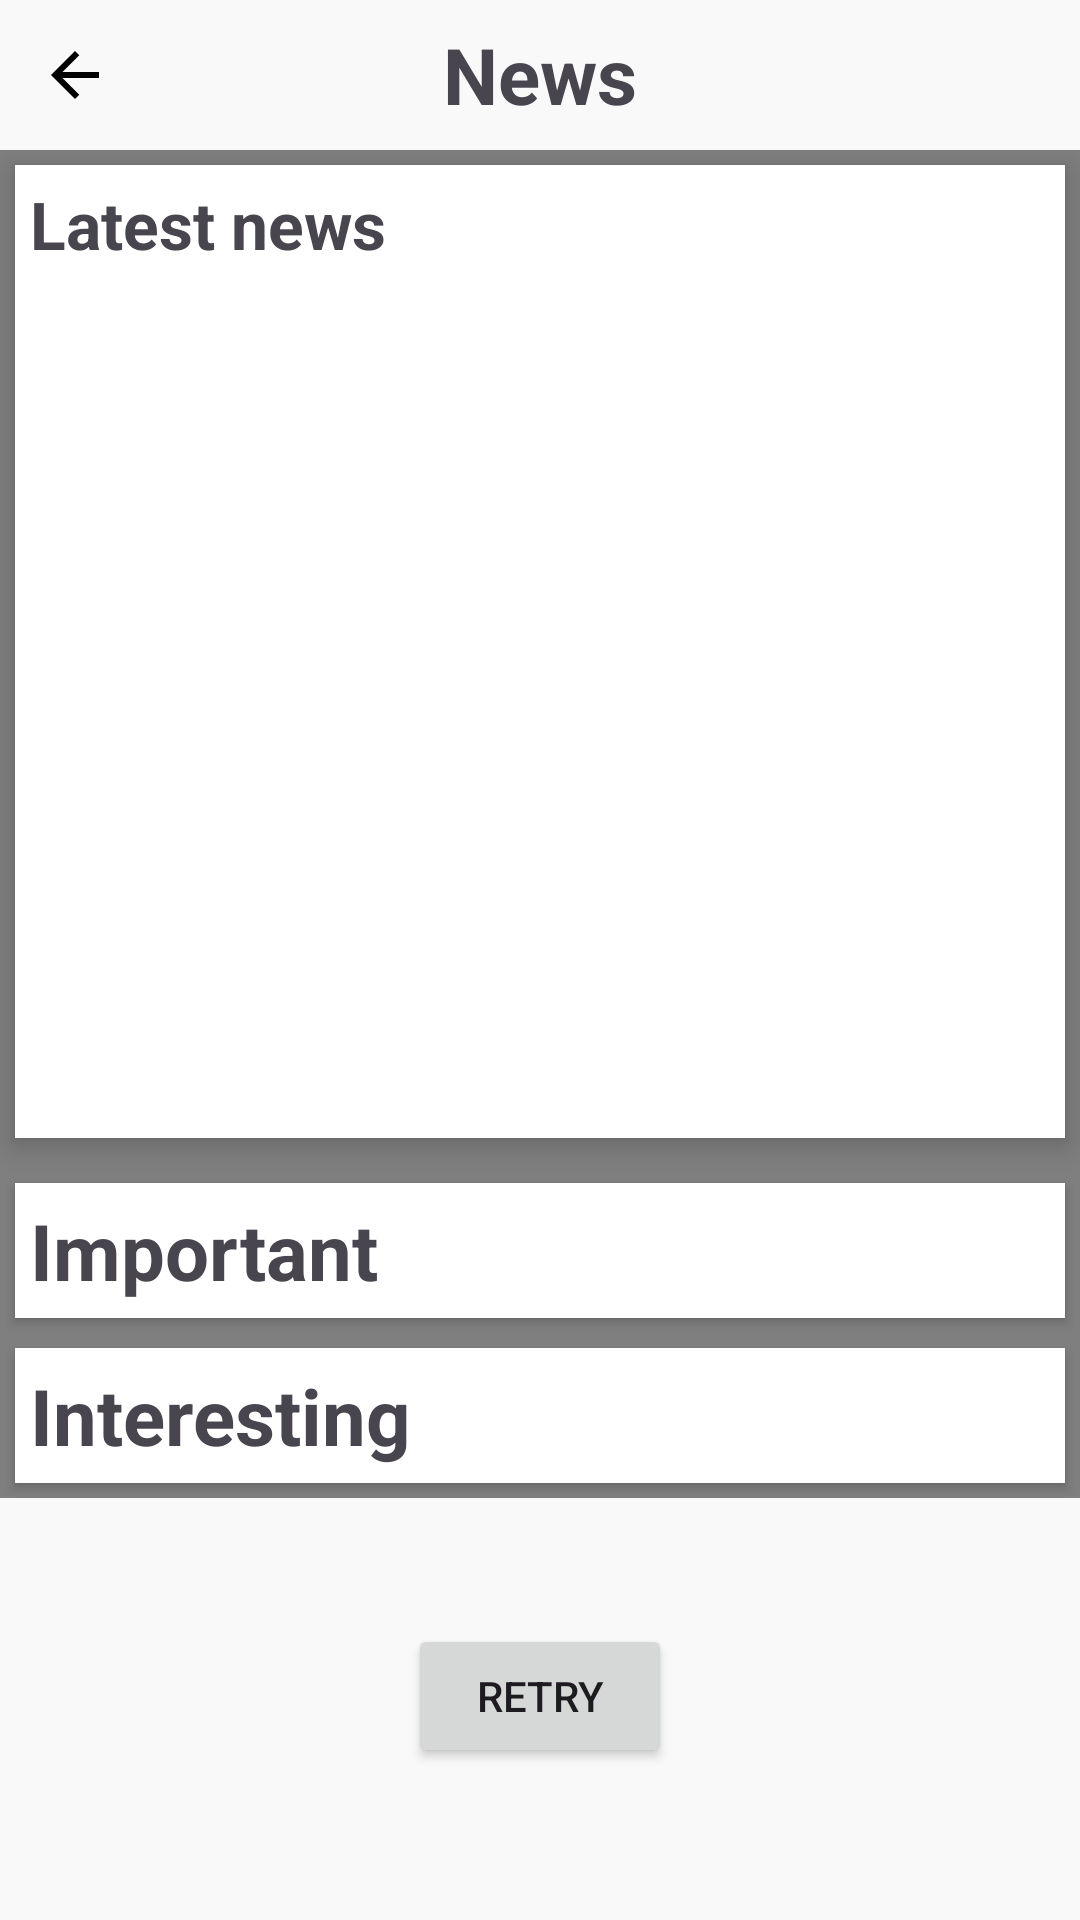

Locate icon controls on the screen. Image size 1080×1920, boxes as (x1, y1, x2, y2).
back: (51, 51, 99, 99)
